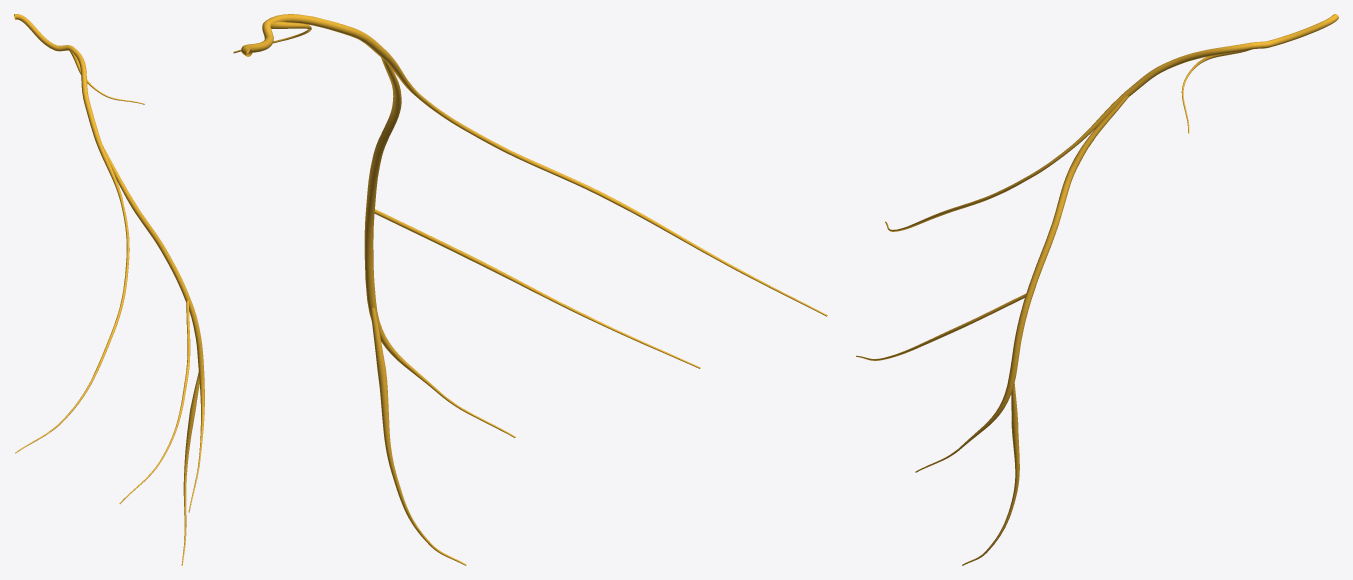
Rendered from nervoso-lateral-pectoral-nerve-l.glb.
The picture shows the model from 3 angles, left to right: view 1: azimuth 30°, elevation 25°; view 2: azimuth 150°, elevation 25°; view 3: azimuth 270°, elevation 25°; orthographic projection. The views are drawn at different scales.
Parts seen in each view (by area): view 1: Lateral pectoral nerve.l; view 2: Lateral pectoral nerve.l; view 3: Lateral pectoral nerve.l.
Boxes of the visible parts, x1,y1,x2,y2 form: Lateral pectoral nerve.l: [14, 14, 204, 565]; Lateral pectoral nerve.l: [233, 14, 827, 565]; Lateral pectoral nerve.l: [856, 14, 1338, 565].
Bounding box in the file's own units: 0.1038 × 0.1734 × 0.1398.
